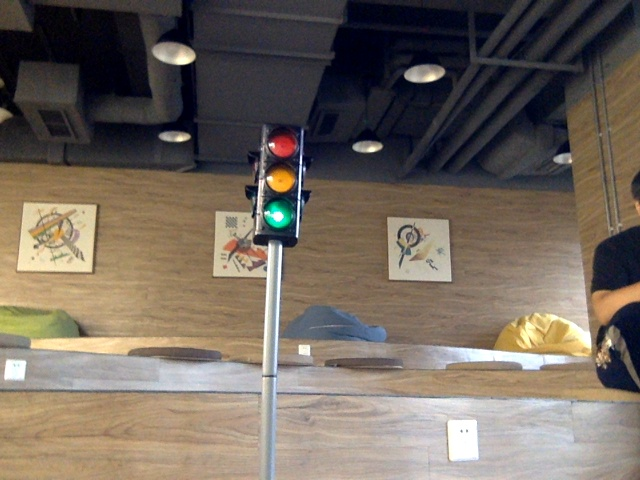green: (260, 133, 295, 234)
